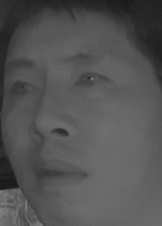eye: (73, 67, 111, 92), (6, 79, 39, 100)
mouth: (30, 156, 88, 193)
